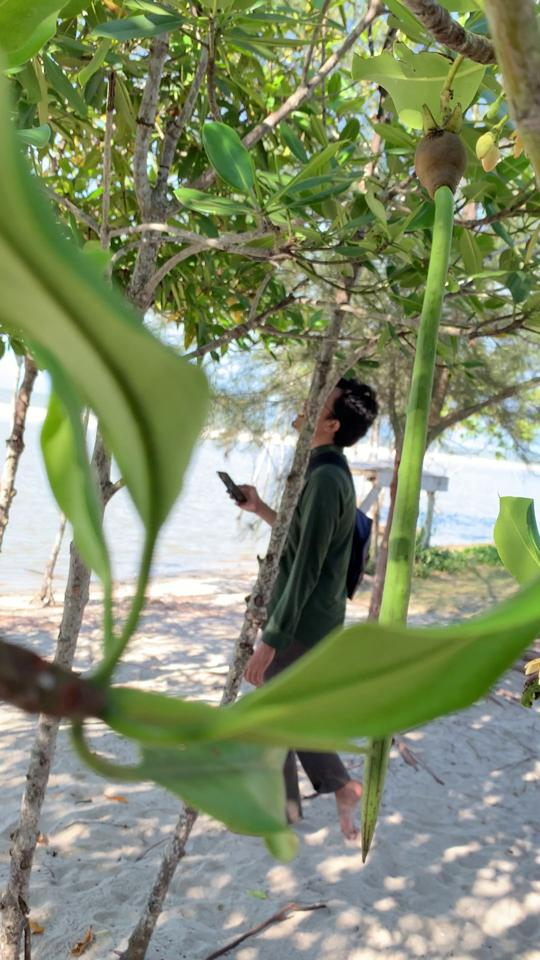setengah matang: (349, 97, 482, 873)
